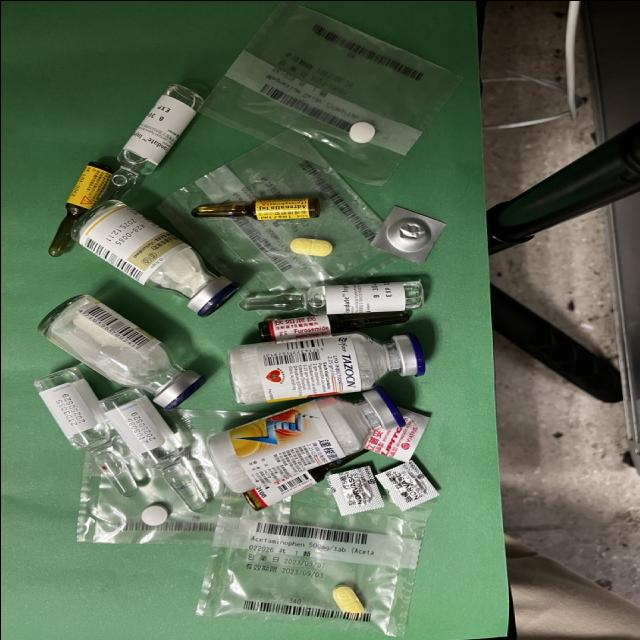Ampoules: (92, 84, 203, 207), (34, 366, 137, 496), (100, 388, 205, 512), (243, 448, 367, 510), (239, 280, 423, 314), (48, 162, 111, 256), (258, 309, 411, 340), (191, 196, 319, 220)
Vials: (207, 386, 404, 492), (71, 199, 237, 316), (38, 294, 204, 410), (227, 332, 425, 404)
